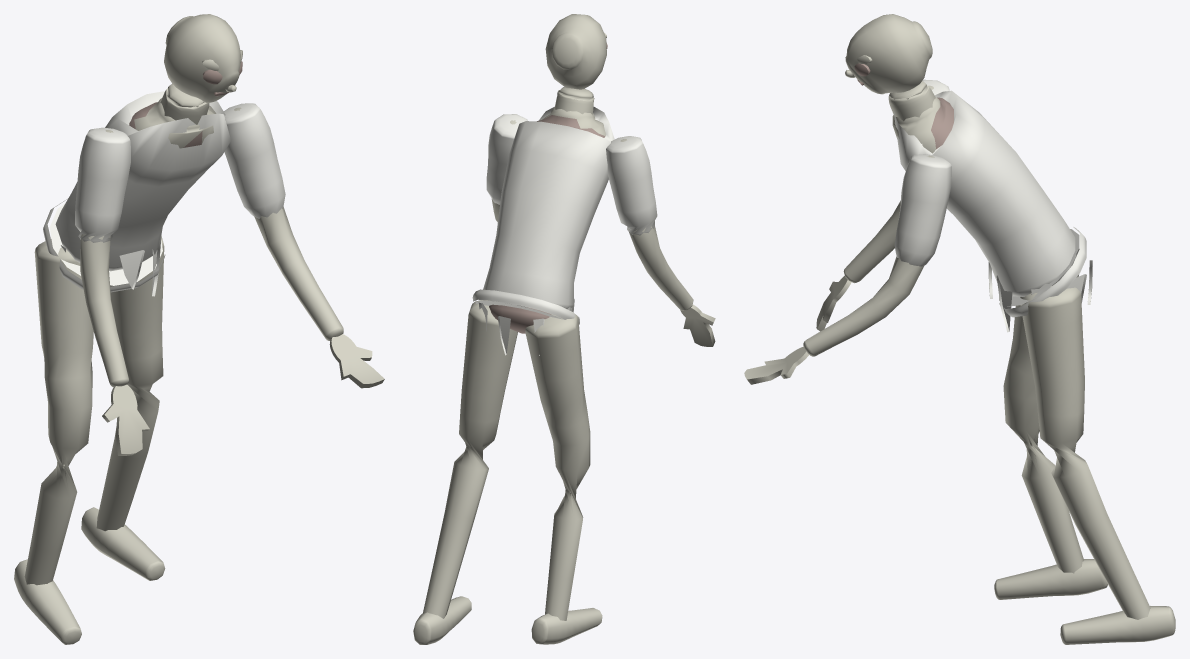
File: undead-horde-and-infected-variants-walker-ward-patient-7e03c62b__11975.glb
3 renders of one model, left to right at view 1: azimuth 30°, elevation 25°; view 2: azimuth 150°, elevation 25°; view 3: azimuth 270°, elevation 25°, orthographic. The views are drawn at different scales.
Parts seen in each view (by area): view 1: walker-ward-patient; view 2: walker-ward-patient; view 3: walker-ward-patient.
Boxes of the visible parts, box(x1,y1,x2,y2) form: walker-ward-patient: box(14, 14, 384, 644); walker-ward-patient: box(413, 14, 715, 644); walker-ward-patient: box(744, 14, 1175, 644).
Bounding box in the file's own units: 0.6163 × 1.57 × 0.9961.
